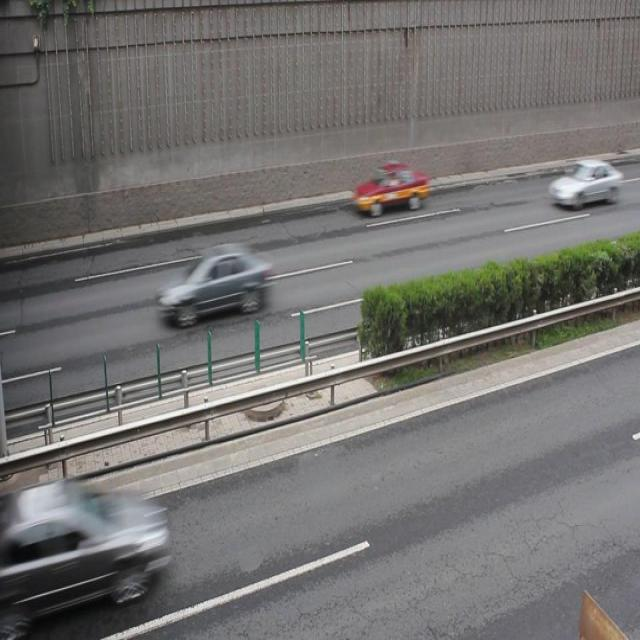car: (17, 477, 167, 616), (158, 242, 268, 326), (351, 161, 428, 215), (547, 156, 620, 210)
